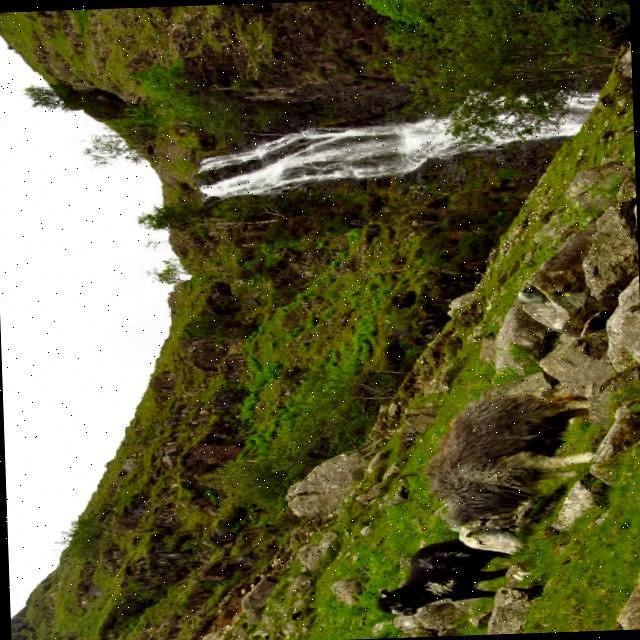sheep: (424, 391, 589, 553), (378, 538, 509, 614)
